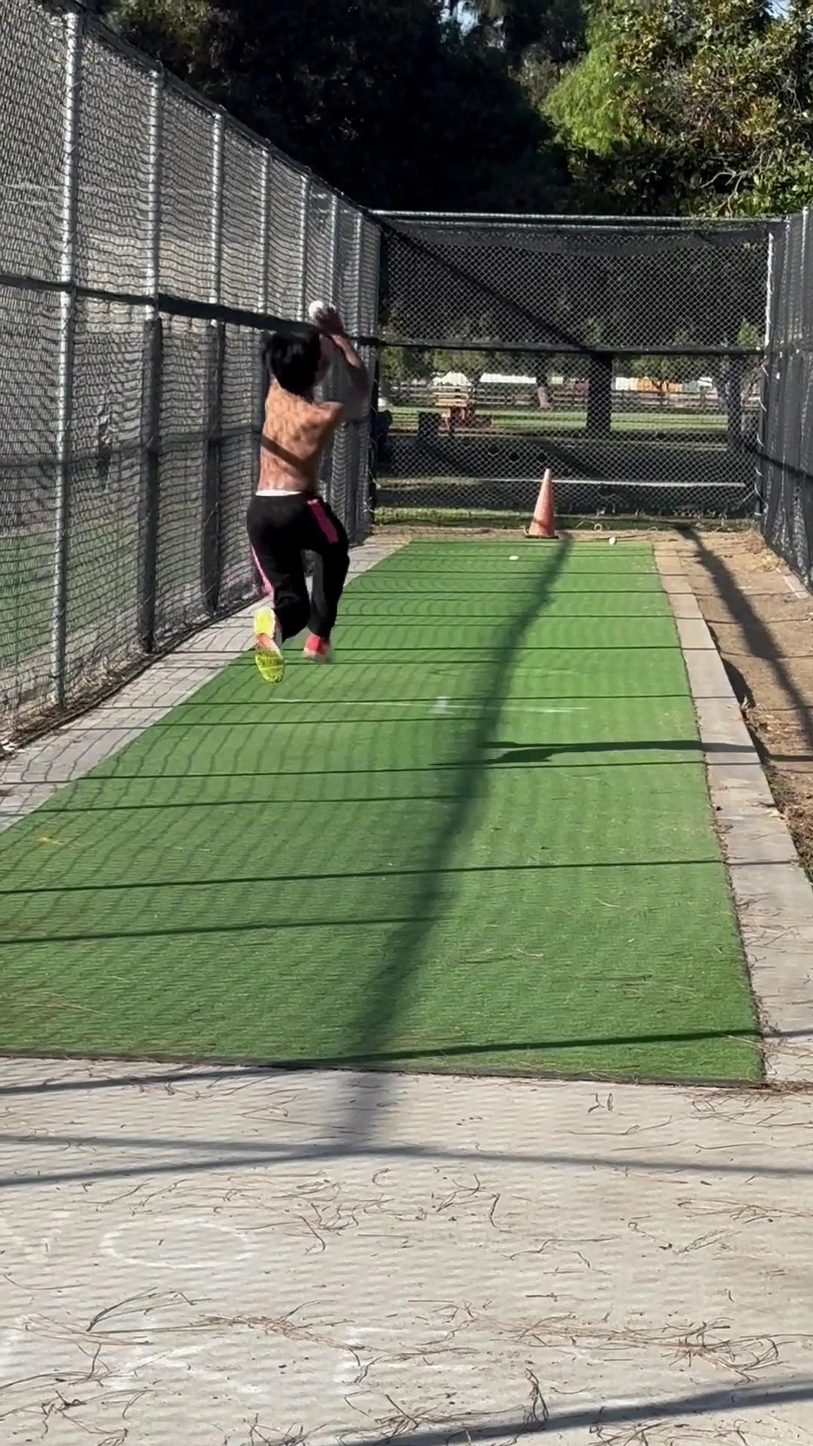ball: (302, 294, 336, 324)
